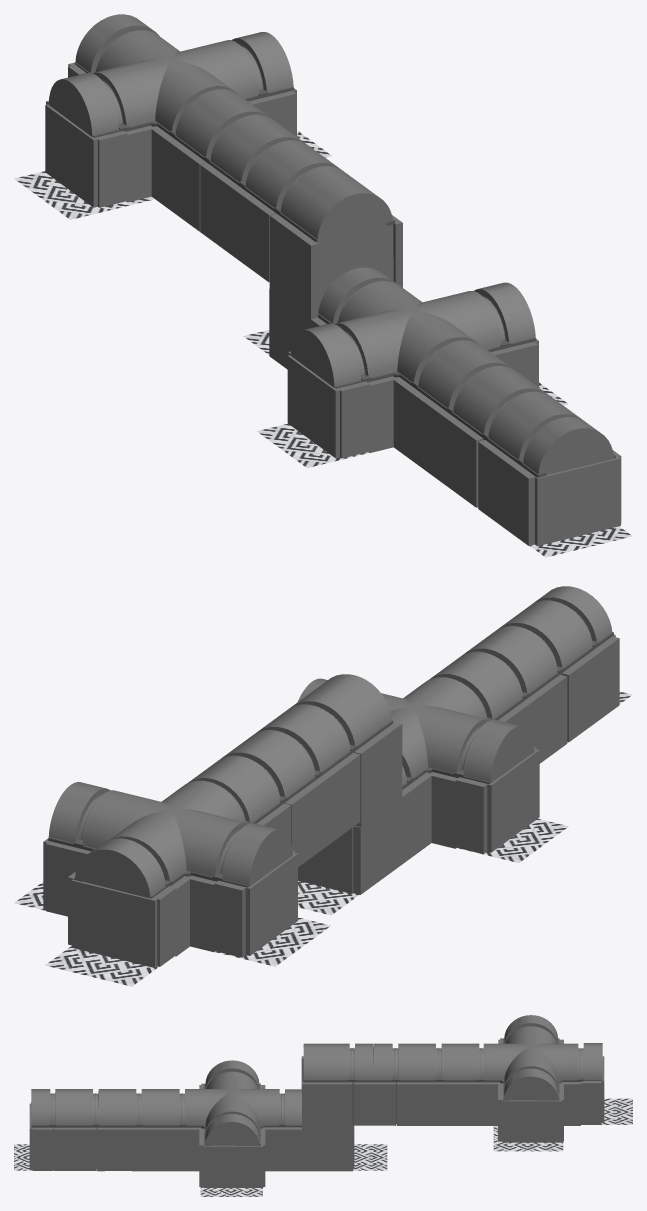
The model's file is Level_1.fbx.
3 renders of one model, top to bottom at view 1: azimuth 30°, elevation 25°; view 2: azimuth 150°, elevation 25°; view 3: azimuth 270°, elevation 25°, orthographic. The views are drawn at different scales.
Visible parts, largest first — view 1: Object084, Object027, Object073, Box122, Box087, Box104, Box079, Object086, Object081, Object069, Box068, Box095 (+30 smaller); view 2: Object073, Object027, Box111, Box104, Box079, Object083, Box087, Object084, Box127, Object069, Object081, Box071 (+32 smaller); view 3: Object073, Object027, Box074, Box099, Box090, Object084, Box130, Box017, Box084, Box062, Box065, Box086 (+32 smaller).
Part boxes in pixels (x1,y1,x2,y2): Object084: (280, 166, 393, 322); Object027: (337, 281, 501, 381); Object073: (95, 30, 259, 130); Box122: (533, 455, 620, 546); Box087: (269, 214, 317, 318); Box104: (45, 104, 100, 207); Box079: (287, 355, 342, 458); Object086: (523, 417, 613, 474); Object081: (48, 73, 118, 137); Object069: (290, 323, 360, 387); Box068: (368, 376, 414, 457); Box095: (126, 125, 172, 206); Object073: (83, 780, 246, 880); Object027: (381, 677, 488, 777); Box111: (71, 879, 158, 967); Box104: (243, 852, 297, 955); Box079: (485, 749, 539, 852); Object083: (75, 838, 165, 898); Box087: (354, 722, 402, 826); Object084: (295, 674, 406, 785); Box127: (353, 798, 401, 894); Object069: (464, 719, 534, 783); Object081: (222, 823, 292, 886); Box071: (411, 772, 457, 852); Object073: (483, 1026, 578, 1086); Object027: (185, 1071, 279, 1132); Box074: (203, 1144, 263, 1187); Box099: (502, 1099, 561, 1142); Box090: (302, 1082, 352, 1129); Object084: (285, 1043, 349, 1125); Box130: (302, 1127, 352, 1171); Box017: (139, 1127, 182, 1171); Box084: (396, 1082, 439, 1125); Box062: (53, 1127, 96, 1170); Box065: (97, 1127, 139, 1171); Box086: (353, 1082, 395, 1125).
Bounding box in the file's own units: 1025 × 678 × 3386.
